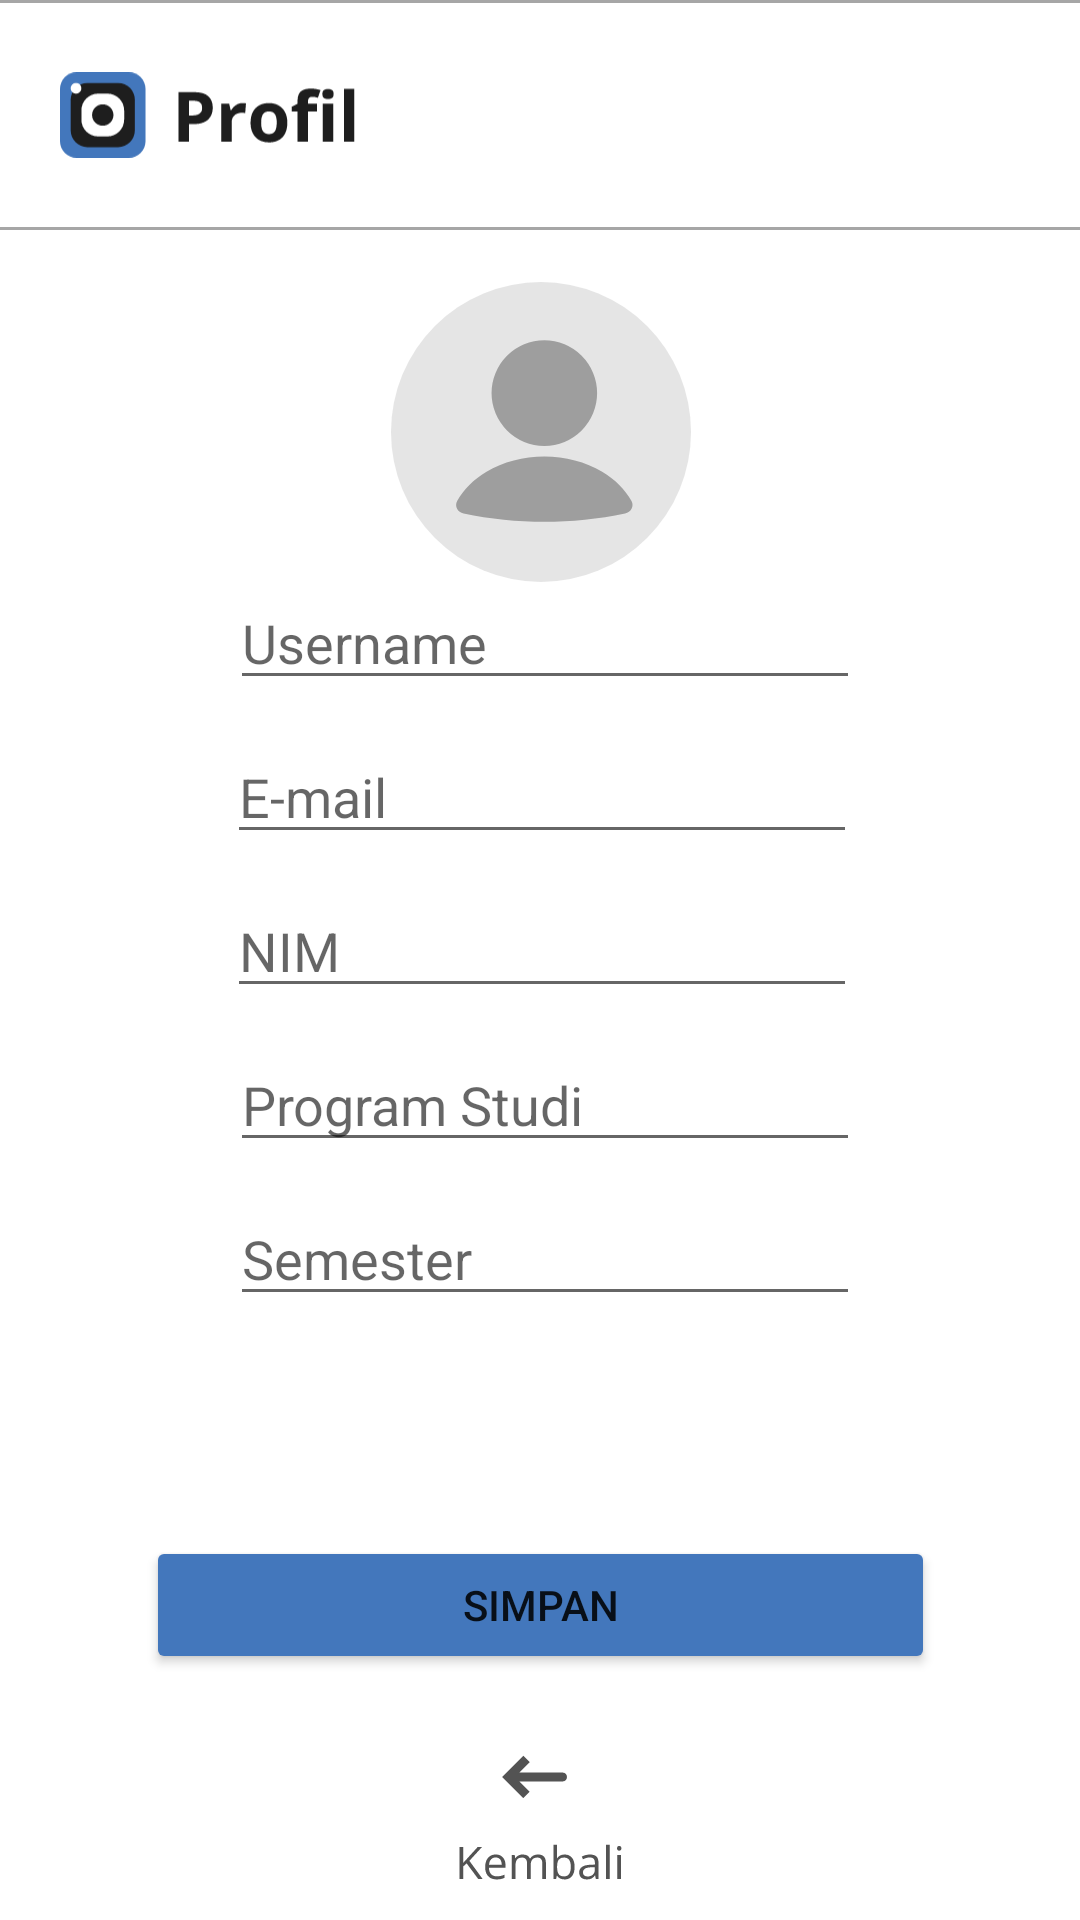

Where icons sit on this 1080×1920 app screen, as (x1, y1, x2, y2):
profile: (391, 282, 691, 582)
